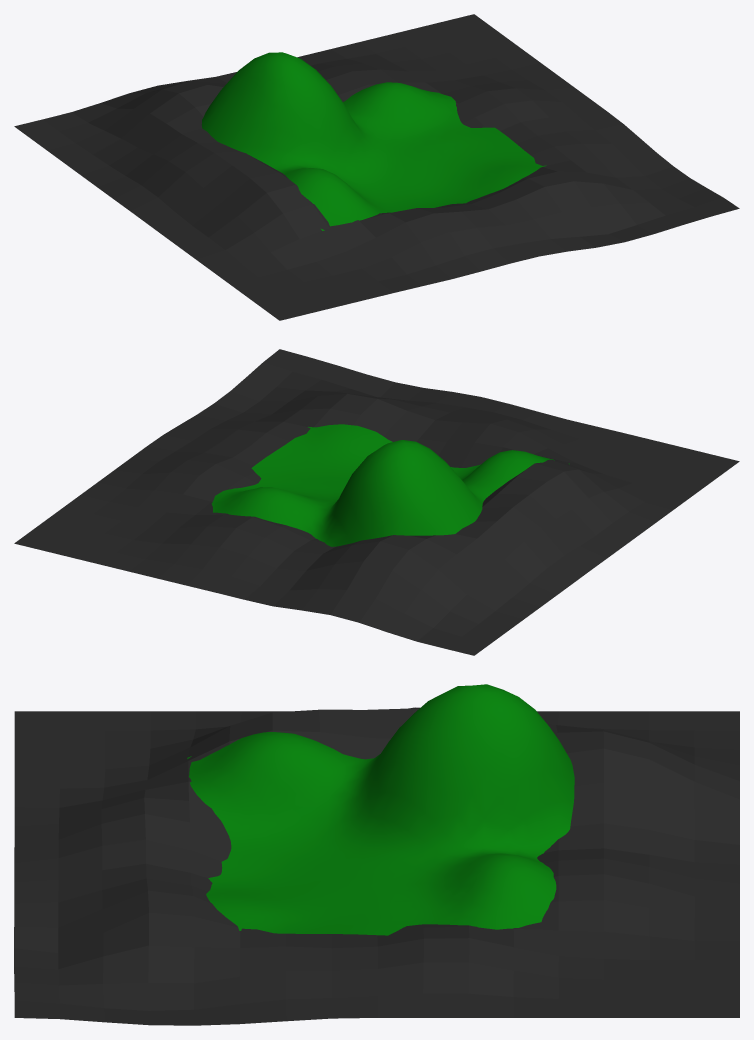
Rendered from makahiki.lvl3 1.fbx.
3 renders of one model, top to bottom at view 1: azimuth 30°, elevation 25°; view 2: azimuth 150°, elevation 25°; view 3: azimuth 270°, elevation 25°, orthographic. The views are drawn at different scales.
Parts seen in each view (by area): view 1: Plane.001, Plane; view 2: Plane.001, Plane; view 3: Plane.001, Plane.
Part boxes in pixels (bbox=[...]): Plane.001: bbox=[14, 14, 739, 320]; Plane: bbox=[201, 52, 546, 230]; Plane.001: bbox=[14, 349, 739, 655]; Plane: bbox=[211, 424, 569, 546]; Plane.001: bbox=[14, 707, 739, 1025]; Plane: bbox=[187, 684, 574, 935].
Bounding box in the file's own units: 26861 × 6143 × 26888.
